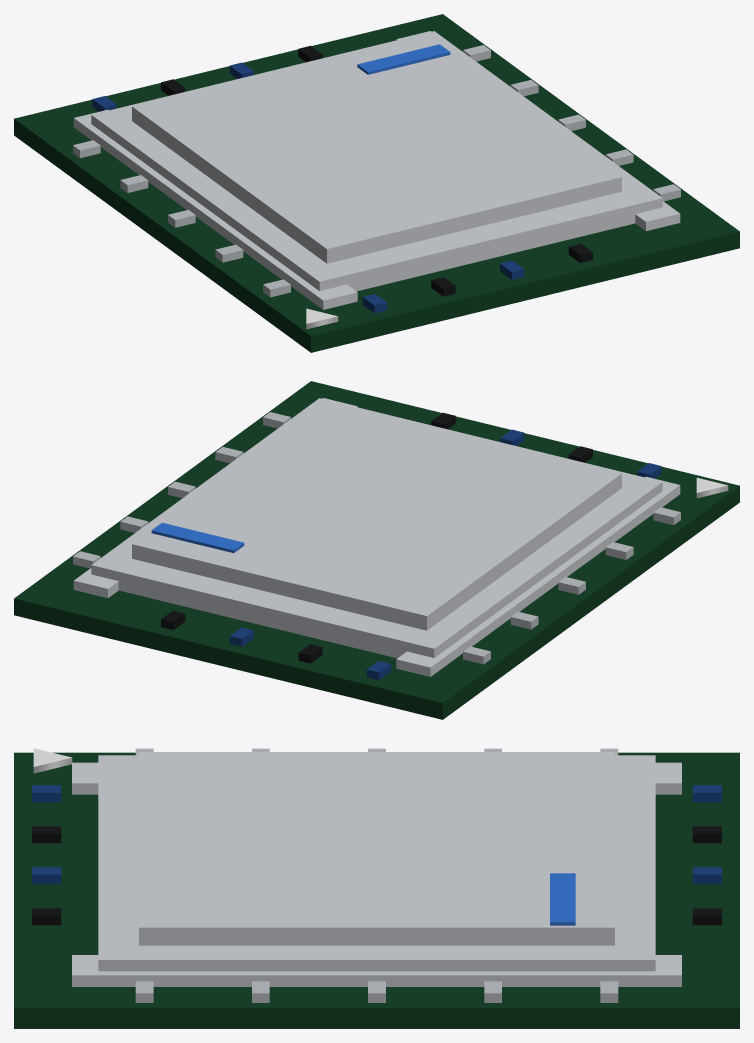
The model's file is hw_cpu_i9_14900k.glb.
3 views of the same model, one above another, from view 1: azimuth 30°, elevation 25°; view 2: azimuth 150°, elevation 25°; view 3: azimuth 270°, elevation 25° (orthographic). The views are drawn at different scales.
Visible parts, largest first — view 1: Body; view 2: Body; view 3: Body.
Part boxes in pixels (box(x1,y1,x2,y2)): Body: box(14, 14, 739, 352); Body: box(14, 381, 739, 719); Body: box(14, 748, 739, 1028).
Bounding box in the file's own units: 0.0375 × 0.00467 × 0.045.
